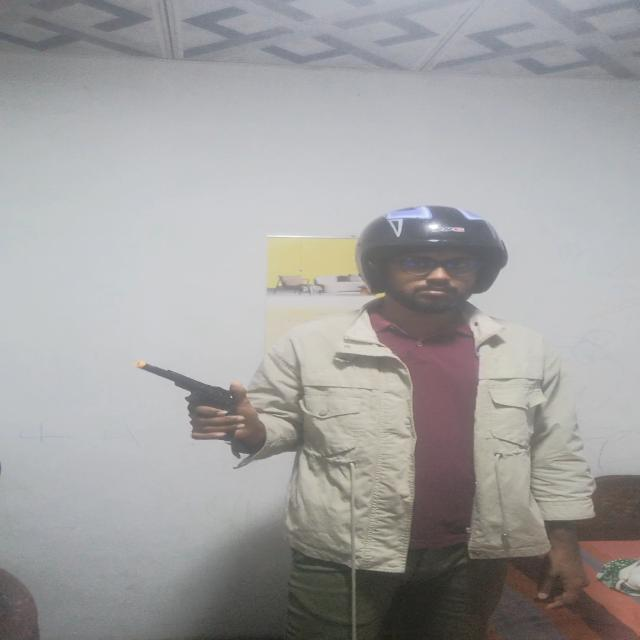Gun_Holder: (133, 358, 267, 442)
Helmet_Wearer: (345, 204, 519, 314)
Jacket_Wearer: (246, 296, 607, 560)
Person: (200, 201, 589, 640)
